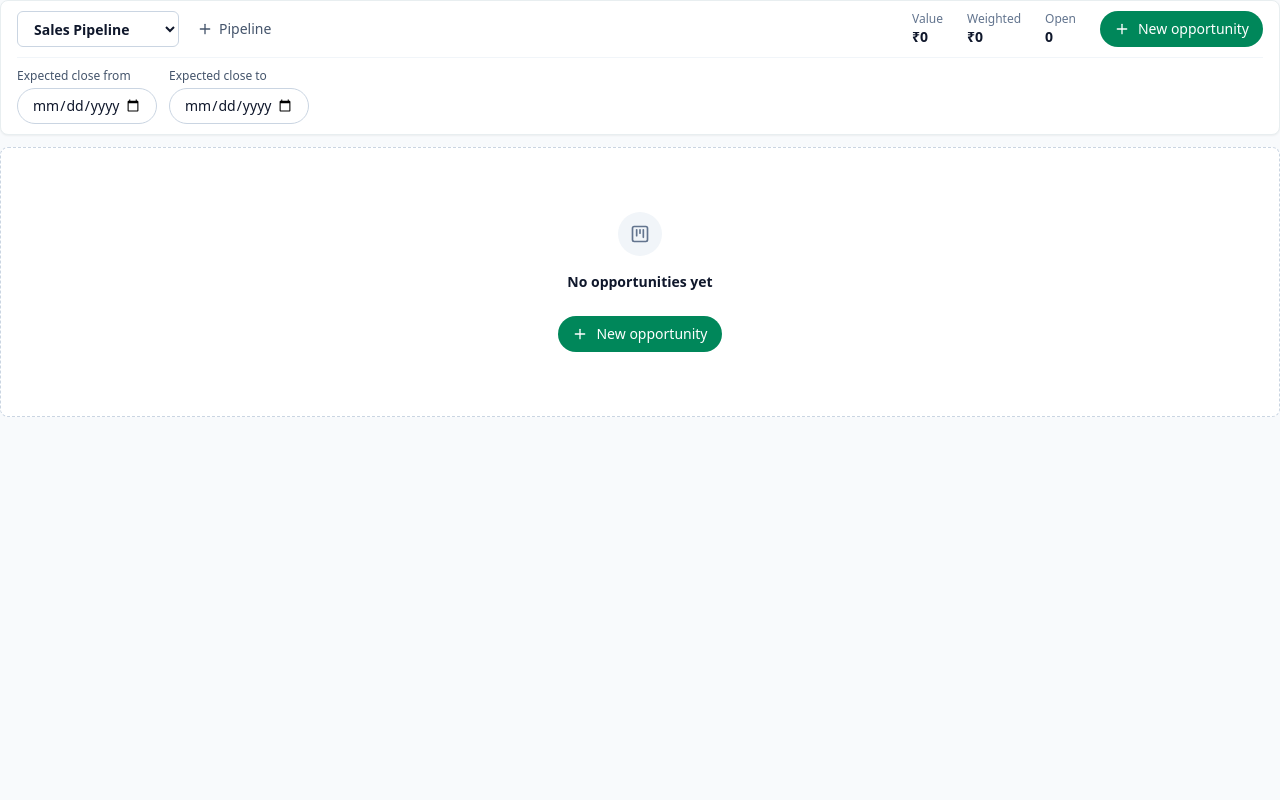
Test: the New opportunity panel › asks for no opportunity name, lead or lead search, and has the approved fields in order
Click the button "New opportunity" next to "Open" at (1182, 29), box [1100,11,1263,47]
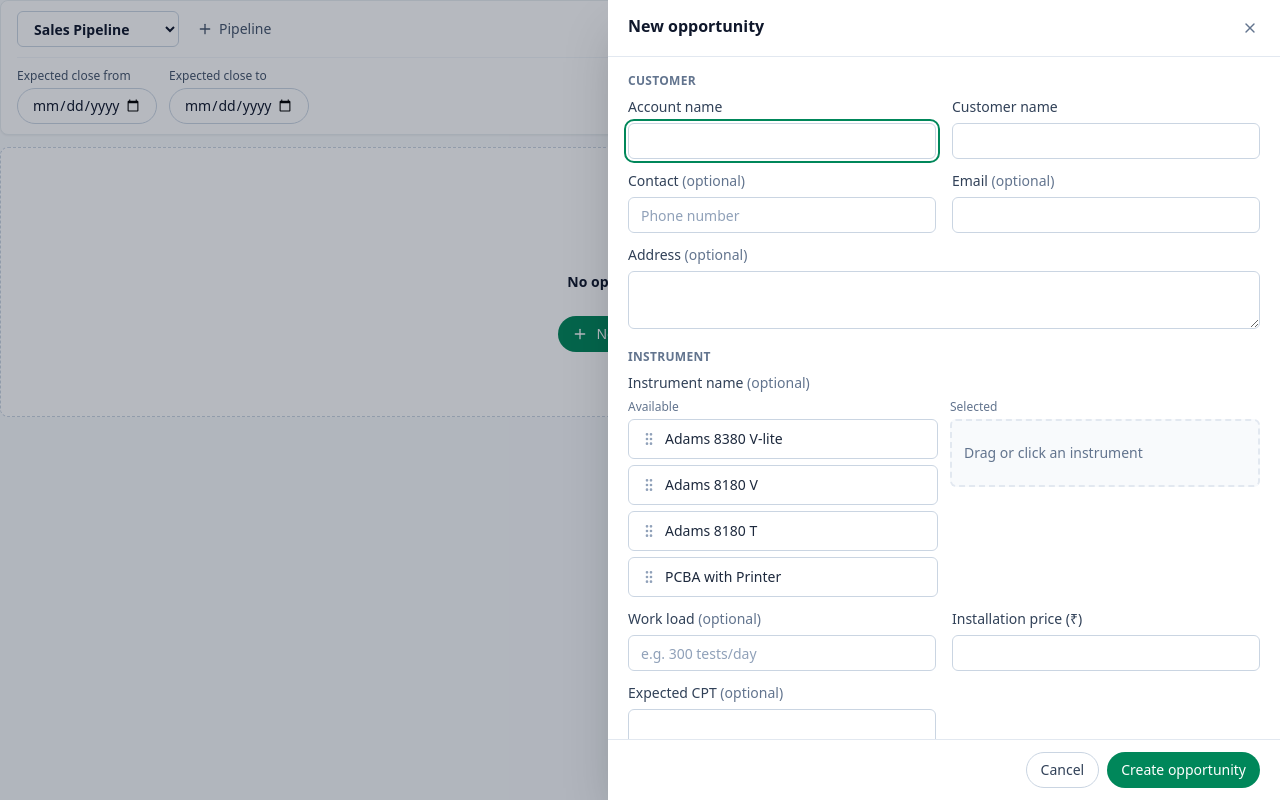
Result: the element named "Instrument name (optional)" is shown at [628,419,938,597]
Result: the field labelled "Account name" is shown at [628,123,936,159]
Result: the field labelled "Customer name" is shown at [952,123,1260,159]
